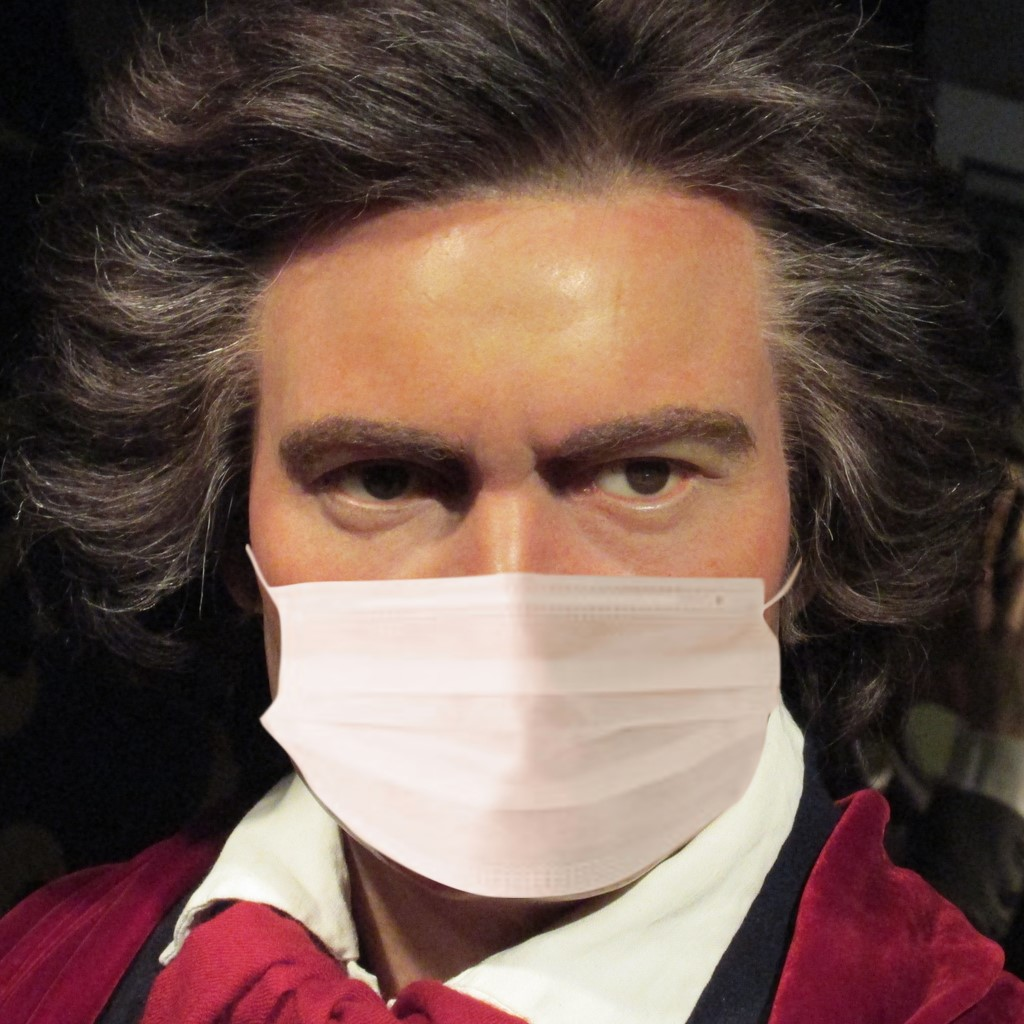con_mascara: (249, 200, 797, 918)
